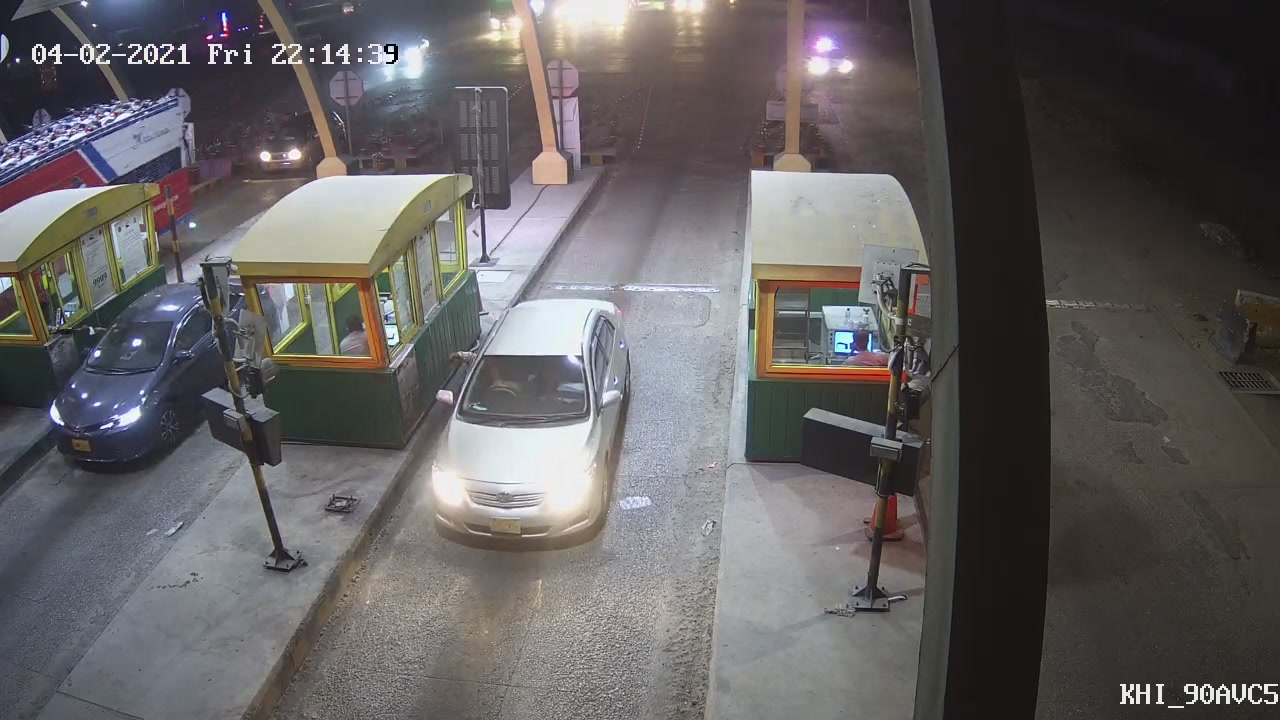F1: (420, 295, 641, 549)
